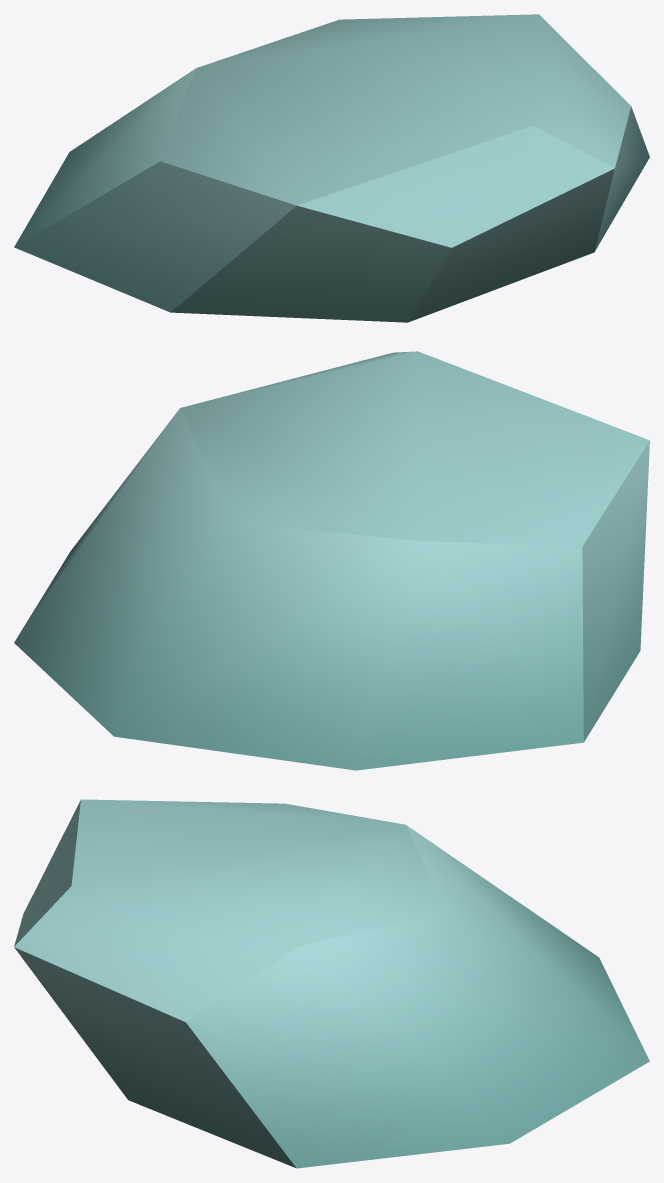
Rendered from Stones_Big.4.fbx.
The picture shows the model from 3 angles, top to bottom: view 1: azimuth 30°, elevation 25°; view 2: azimuth 150°, elevation 25°; view 3: azimuth 270°, elevation 25°; orthographic projection. The views are drawn at different scales.
Visible parts, largest first — view 1: Stones_Big_4; view 2: Stones_Big_4; view 3: Stones_Big_4.
Part boxes in pixels (bbox=[...]): Stones_Big_4: bbox=[14, 14, 649, 322]; Stones_Big_4: bbox=[14, 351, 649, 770]; Stones_Big_4: bbox=[14, 799, 649, 1168].
Size of the model in its own units: 58.73 by 16.7 by 56.49.
